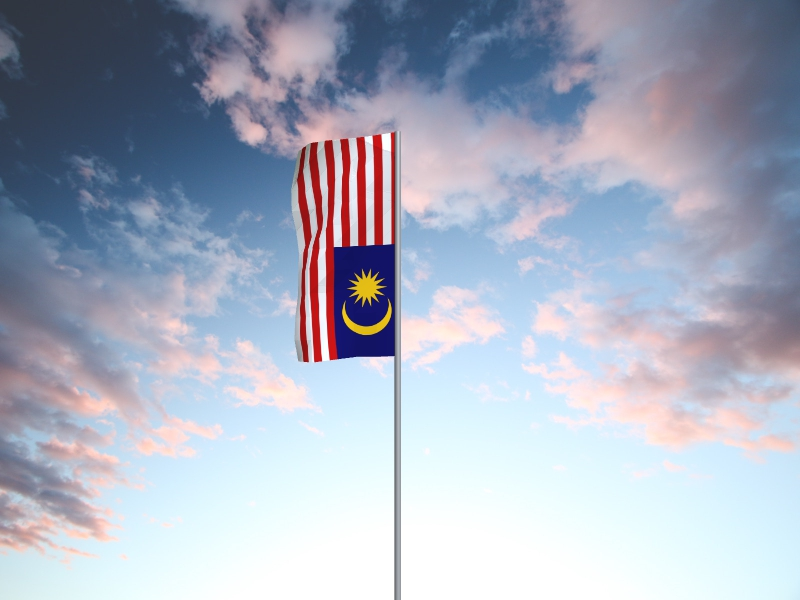my: (292, 133, 395, 363)
